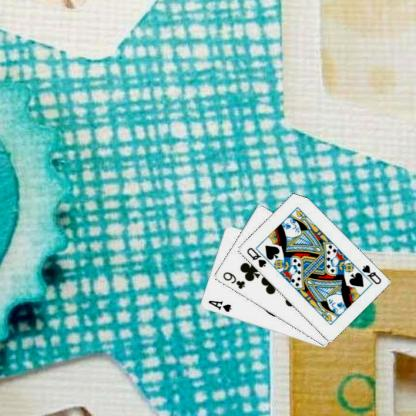9C: (220, 269, 246, 290)
AS: (206, 298, 232, 313)
QS: (359, 262, 383, 286), (244, 245, 267, 269)
